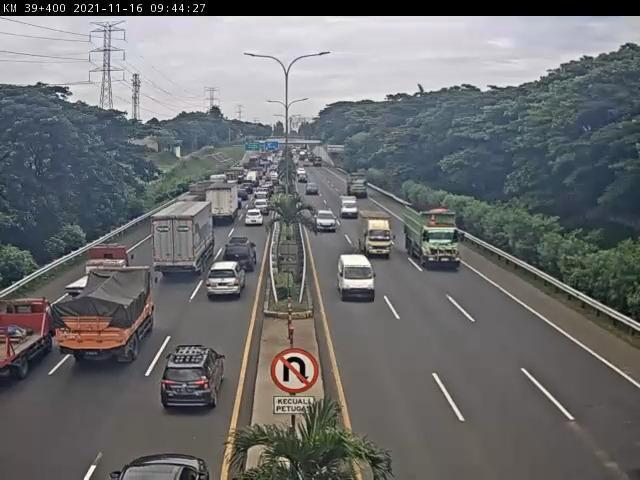car: (158, 343, 234, 415), (111, 450, 223, 480), (328, 252, 380, 302), (200, 261, 252, 303), (222, 236, 262, 275), (312, 206, 340, 238), (336, 197, 363, 222), (245, 209, 266, 230), (252, 199, 274, 217), (306, 184, 322, 199)
truck: (60, 272, 159, 371), (1, 292, 57, 389), (150, 203, 218, 279), (403, 203, 468, 273), (62, 242, 137, 302), (354, 210, 398, 261), (206, 182, 245, 224), (346, 174, 373, 201)
